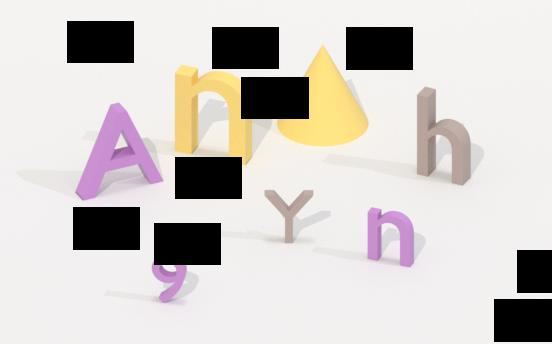9: (150, 248, 188, 306)
A-hoa: (72, 93, 167, 210)
Y-hoa: (263, 181, 319, 250)
h: (413, 81, 480, 193)
n: (171, 63, 254, 166), (365, 204, 418, 271)
non: (274, 43, 371, 148)
